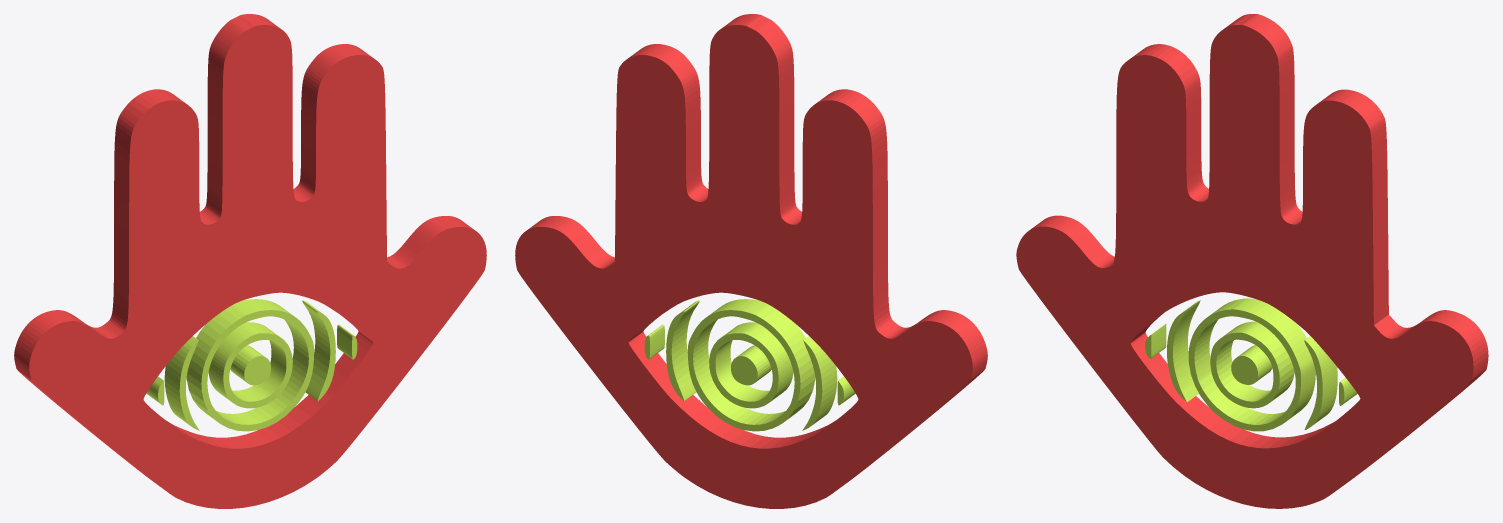
Rendered from talisman2.glb.
3 renders of one model, left to right at view 1: azimuth 30°, elevation 25°; view 2: azimuth 150°, elevation 25°; view 3: azimuth 330°, elevation 25°, orthographic.
Visible parts, largest first — view 1: Curve; view 2: Curve; view 3: Curve.
Part boxes in pixels (x1,y1,x2,y2): Curve: (14,14,486,508); Curve: (515,14,987,508); Curve: (1016,14,1488,508).
Size of the model in its own units: 3.52 by 3.52 by 0.2007.
